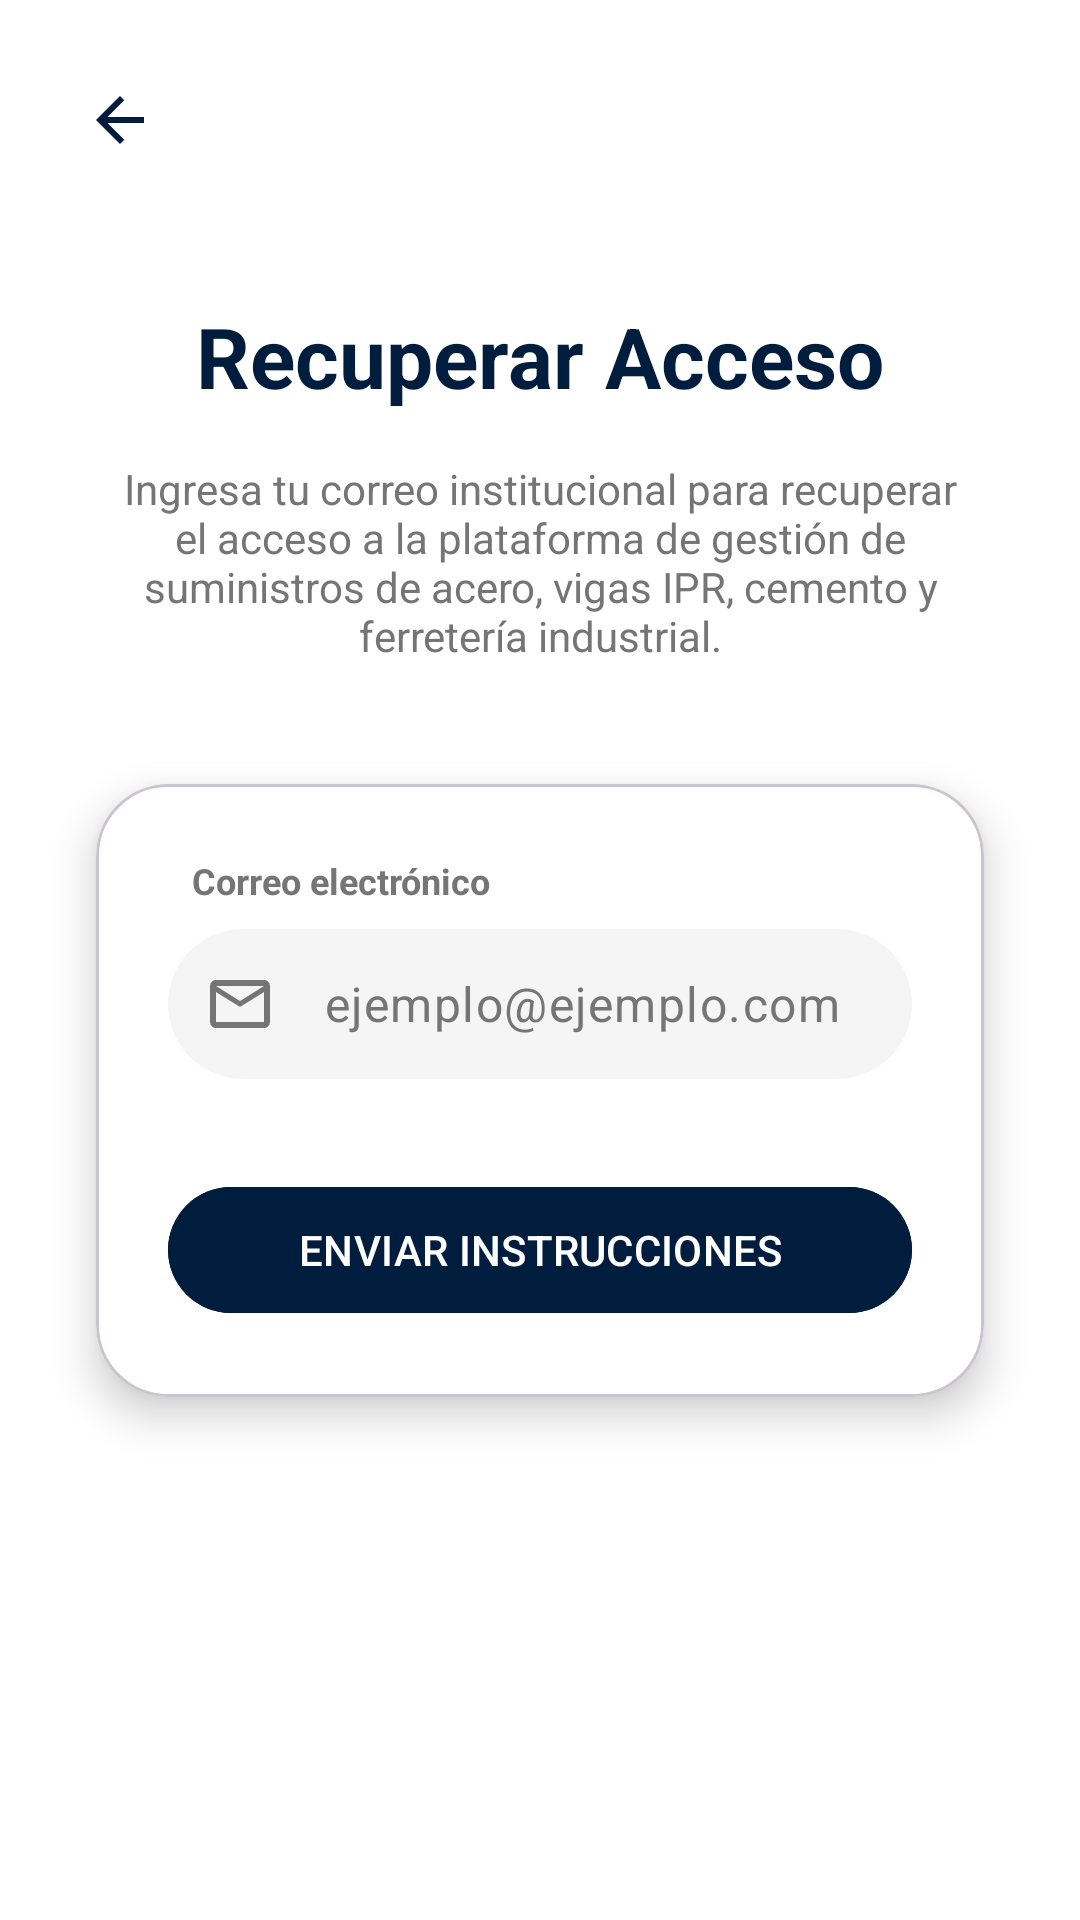

Named icons in this screenshot (1080 x 1920) and their centers, [x,y]:
Fecha de regresar: [120,120]
